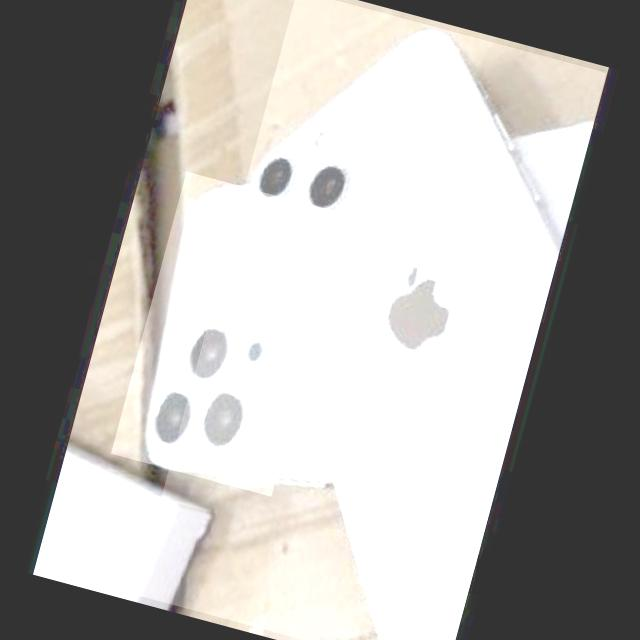lens_back: (144, 377, 204, 454), (193, 382, 254, 456), (180, 315, 240, 388), (301, 154, 356, 216), (250, 146, 302, 204)
phone: (140, 0, 605, 640), (120, 168, 556, 553)
